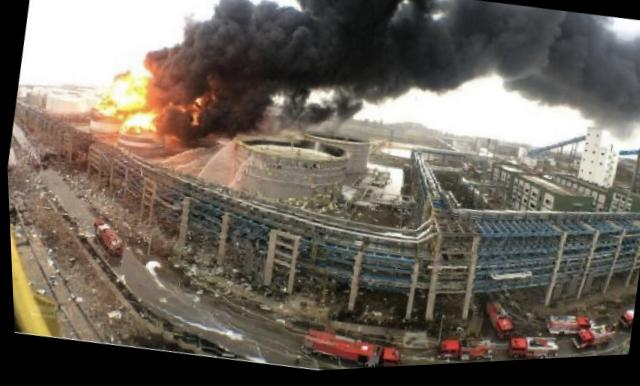fire: (110, 73, 149, 109), (120, 107, 157, 136), (190, 98, 206, 128), (100, 102, 121, 119)
